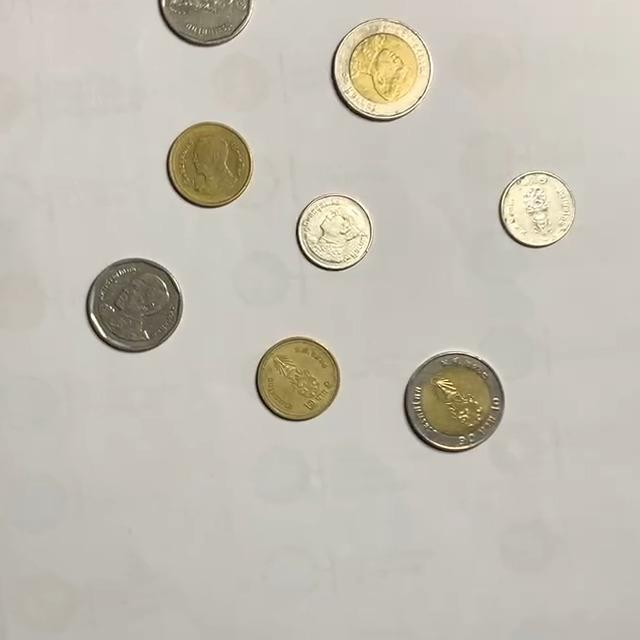1-baht: (498, 170, 578, 248), (296, 193, 374, 271)
10-baht: (404, 350, 508, 451), (333, 17, 434, 119)
2-baht: (167, 121, 253, 207), (256, 337, 342, 421)
5-baht: (86, 257, 184, 353), (157, 0, 255, 47)
